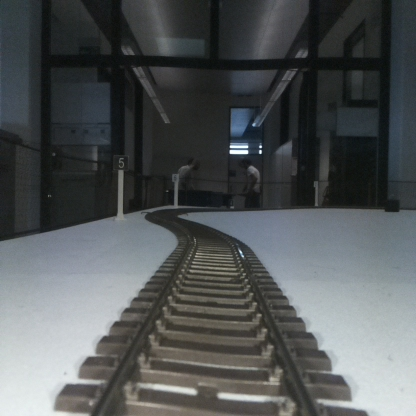black-info-5: (113, 153, 128, 219)
